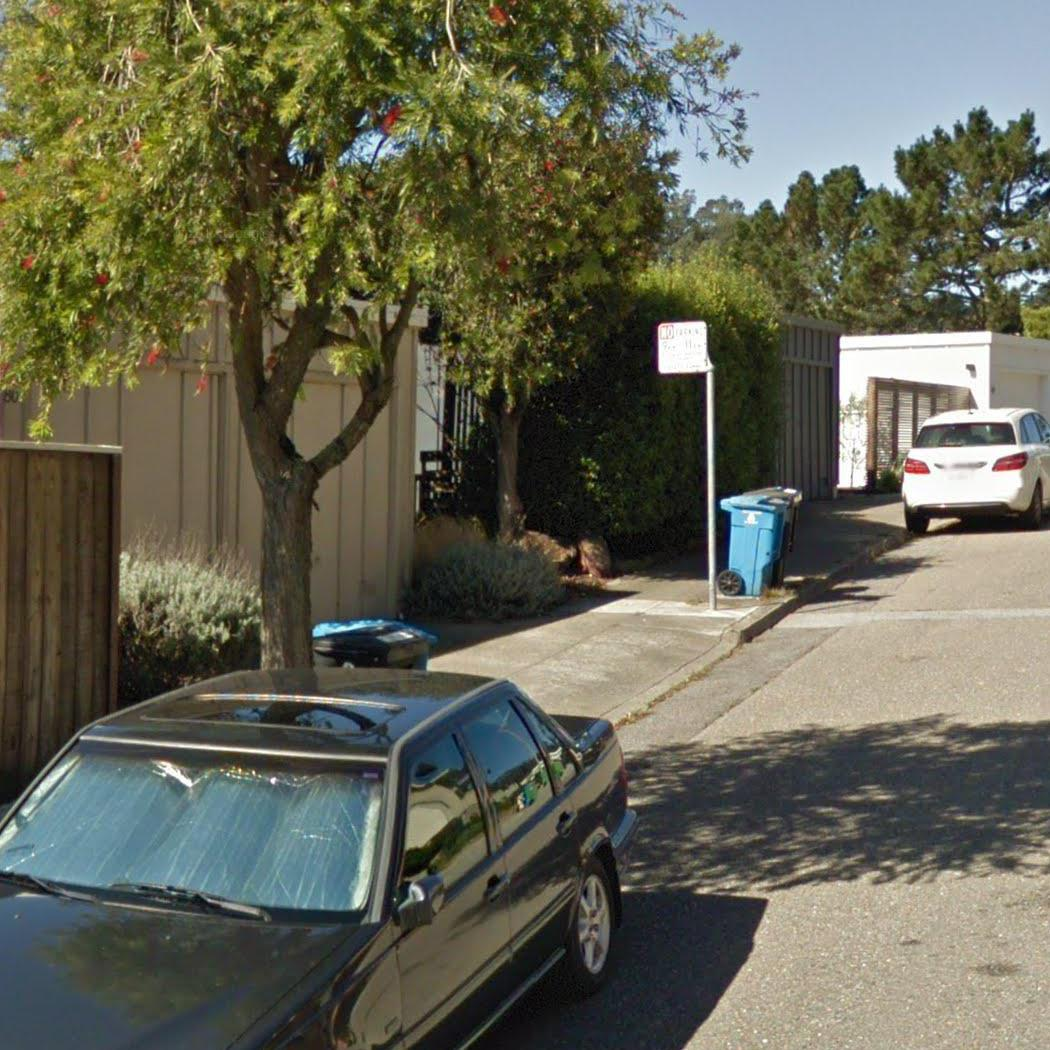No Parking: (655, 319, 709, 376)
